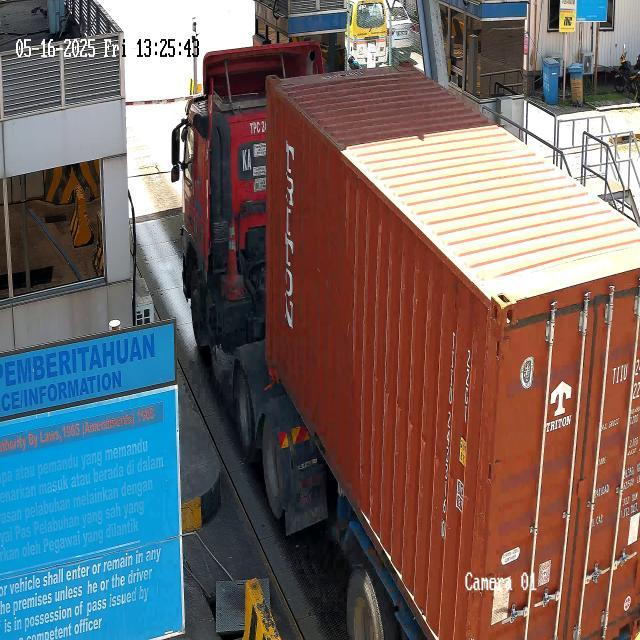ISO: (461, 342, 476, 432)
container_number: (434, 322, 464, 543)
